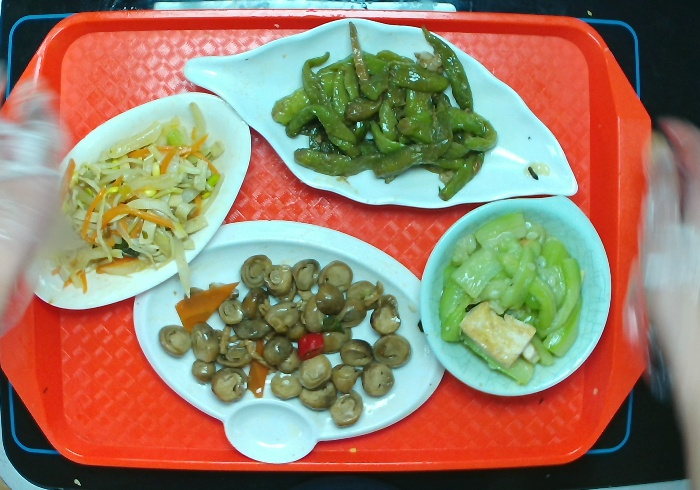RJxy-Bai_Se_Tuo_Yuan: (24, 90, 253, 311)
RJxy-Shu_Ye_Pan: (182, 16, 580, 211)
RJxy-Xiao_Jiao_Yuan_Wan: (418, 193, 613, 398)
RJxy-Zhan_Liao_Pan: (131, 217, 447, 465)
